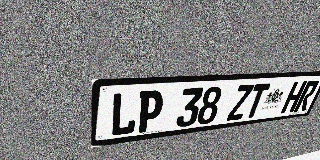3: (175, 87, 204, 128)
8: (196, 86, 224, 125)
H: (280, 81, 307, 114)
L: (110, 91, 139, 137)
P: (135, 90, 165, 133)
R: (293, 80, 320, 112)
T: (243, 83, 271, 119)
Z: (226, 84, 255, 121)
